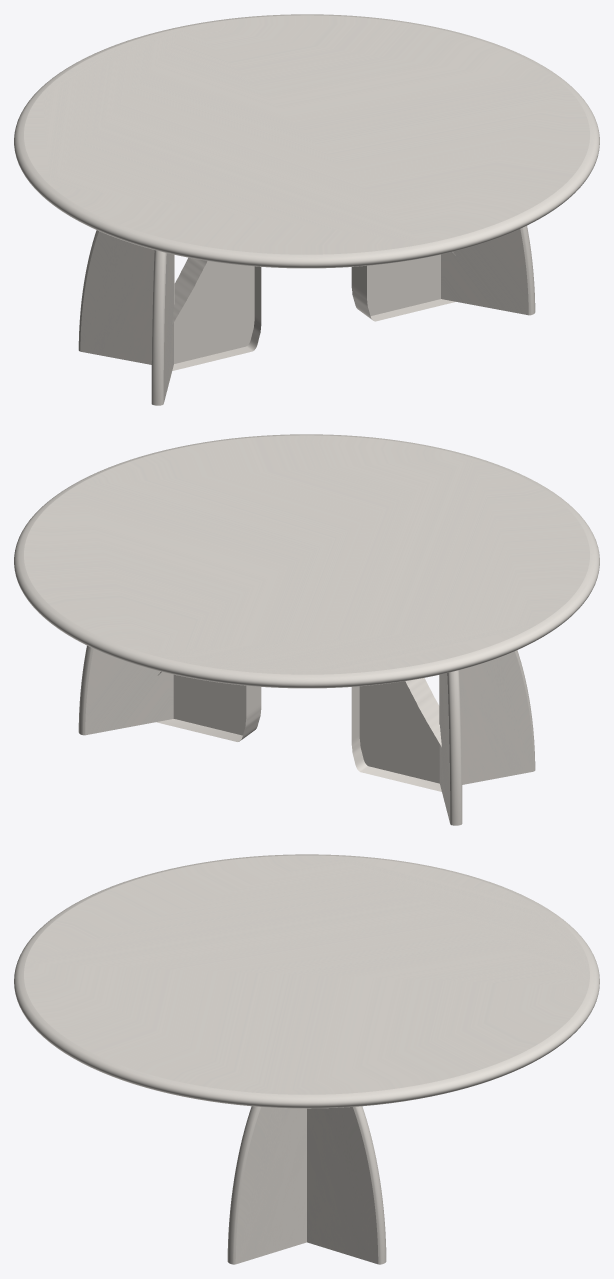
The model's file is pearlwhite_round_round_plane.glb.
The picture shows the model from 3 angles, top to bottom: view 1: azimuth 30°, elevation 25°; view 2: azimuth 150°, elevation 25°; view 3: azimuth 270°, elevation 25°; orthographic projection.
Parts seen in each view (by area): view 1: round_round, plane_single1, plane_singleleft1, plane_singleright2, plane_single2, plane_singleright1; view 2: round_round, plane_single1, plane_singleright1, plane_singleleft2, plane_single2, plane_singleleft1; view 3: round_round, plane_singleright2, plane_singleleft2.
Boxes of the visible parts, x1,y1,x2,y2 form: round_round: [14, 14, 599, 268]; plane_single1: [172, 257, 261, 370]; plane_singleleft1: [78, 230, 174, 364]; plane_singleright2: [441, 225, 535, 315]; plane_single2: [351, 252, 455, 321]; plane_singleright1: [151, 250, 173, 405]; round_round: [14, 434, 599, 688]; plane_single1: [351, 678, 441, 791]; plane_singleright1: [439, 650, 535, 784]; plane_singleleft2: [78, 645, 173, 735]; plane_single2: [156, 671, 261, 741]; plane_singleleft1: [439, 670, 462, 825]; round_round: [14, 854, 599, 1108]; plane_singleright2: [227, 1106, 306, 1264]; plane_singleleft2: [307, 1106, 386, 1264].
Size of the model in its own units: 6.75 by 2.49 by 6.75.
1 material, 1 textured.
